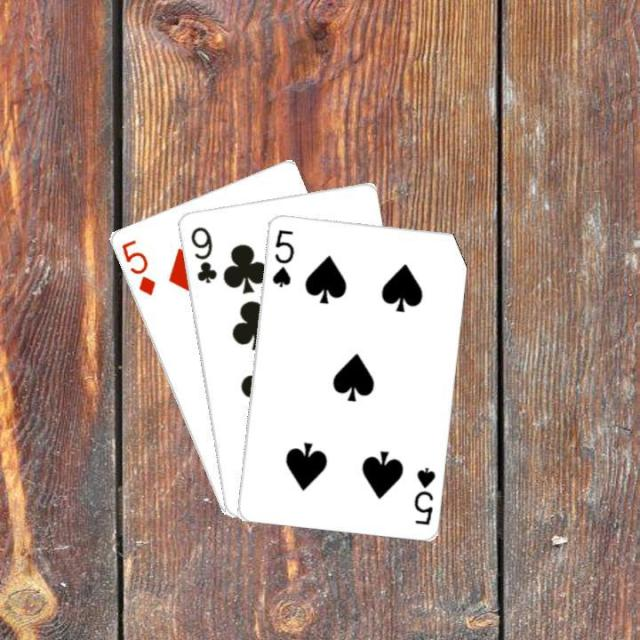5D: (116, 235, 158, 298)
5S: (268, 225, 296, 288), (409, 462, 436, 526)
9C: (186, 222, 218, 286)
